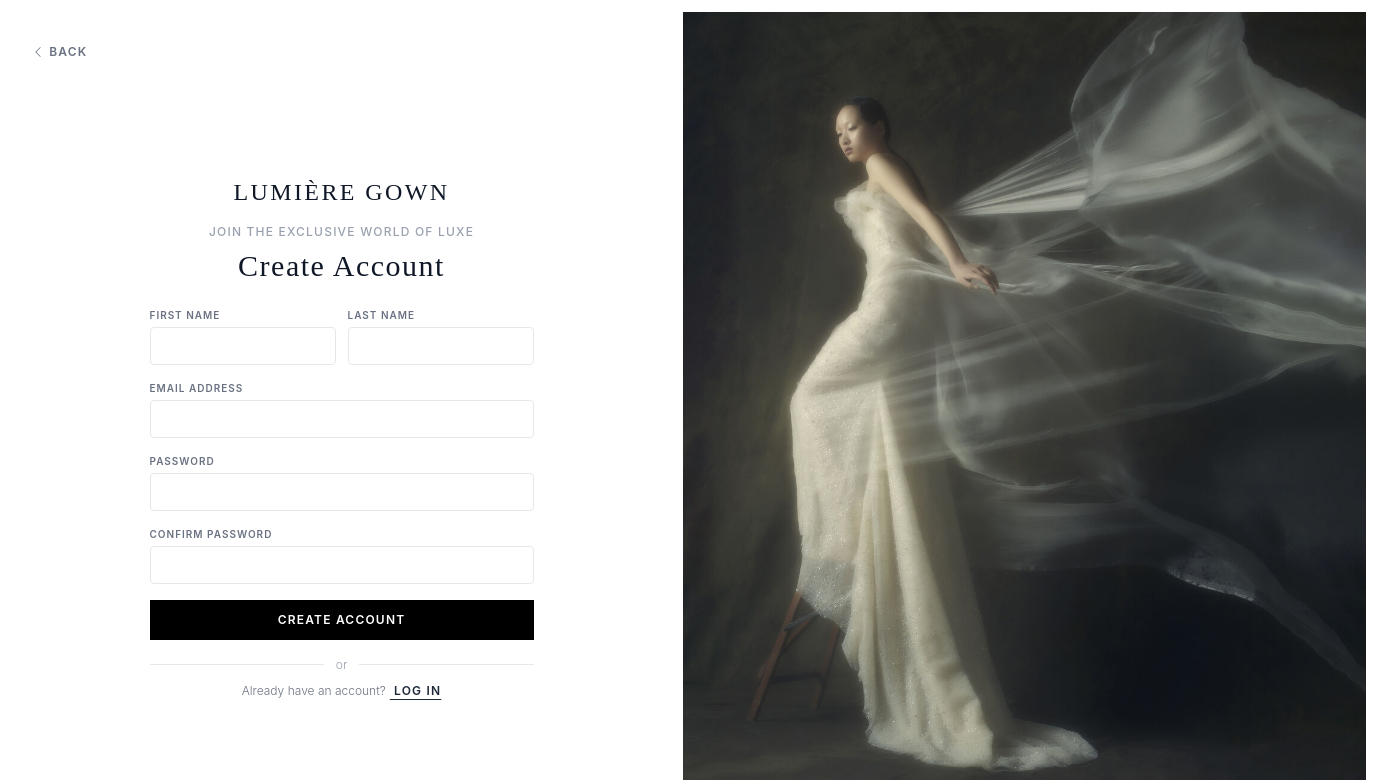
it: RegisterView.vue › displays generic error message when network or server error occurs without detail
This screenshot has width=1378, height=780.
Type "Chanya" into the field with id "firstName" at (242,346), box [150,327,336,365]
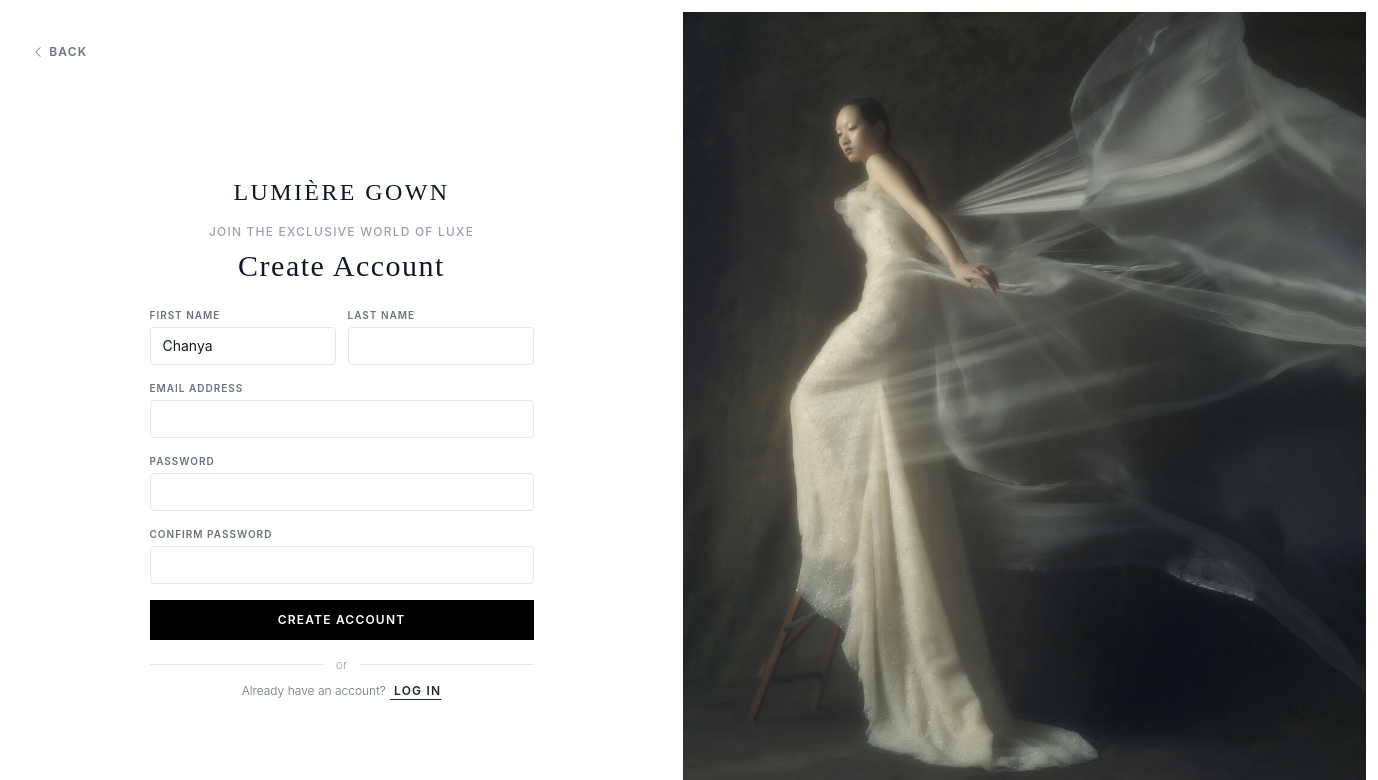
Type "test@metric.com" into the field with id "email" at (342,419), box [150,400,534,438]
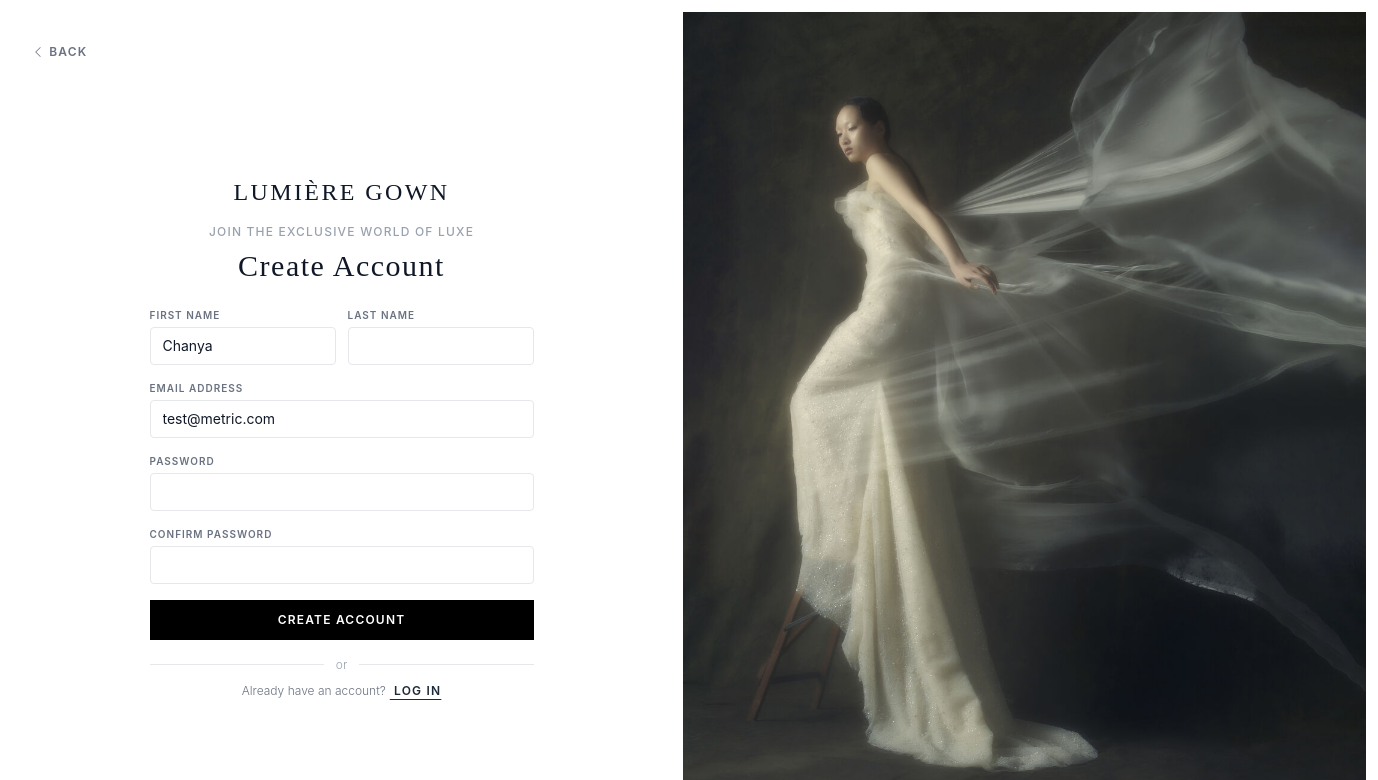
Type "password123" into the password field labelled "Password" at (342,492), box [150,473,534,511]
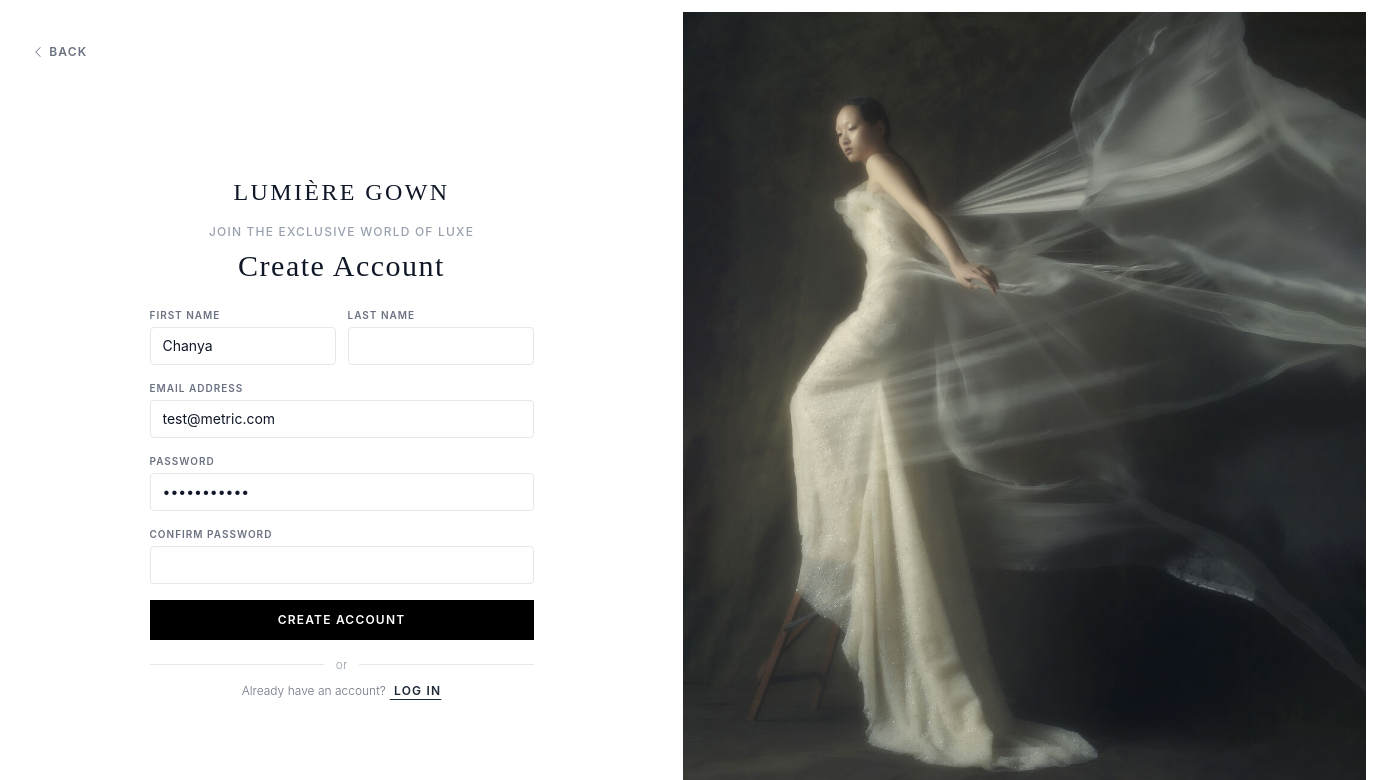
Type "password123" into the password field labelled "Confirm Password" at (342,565), box [150,546,534,584]
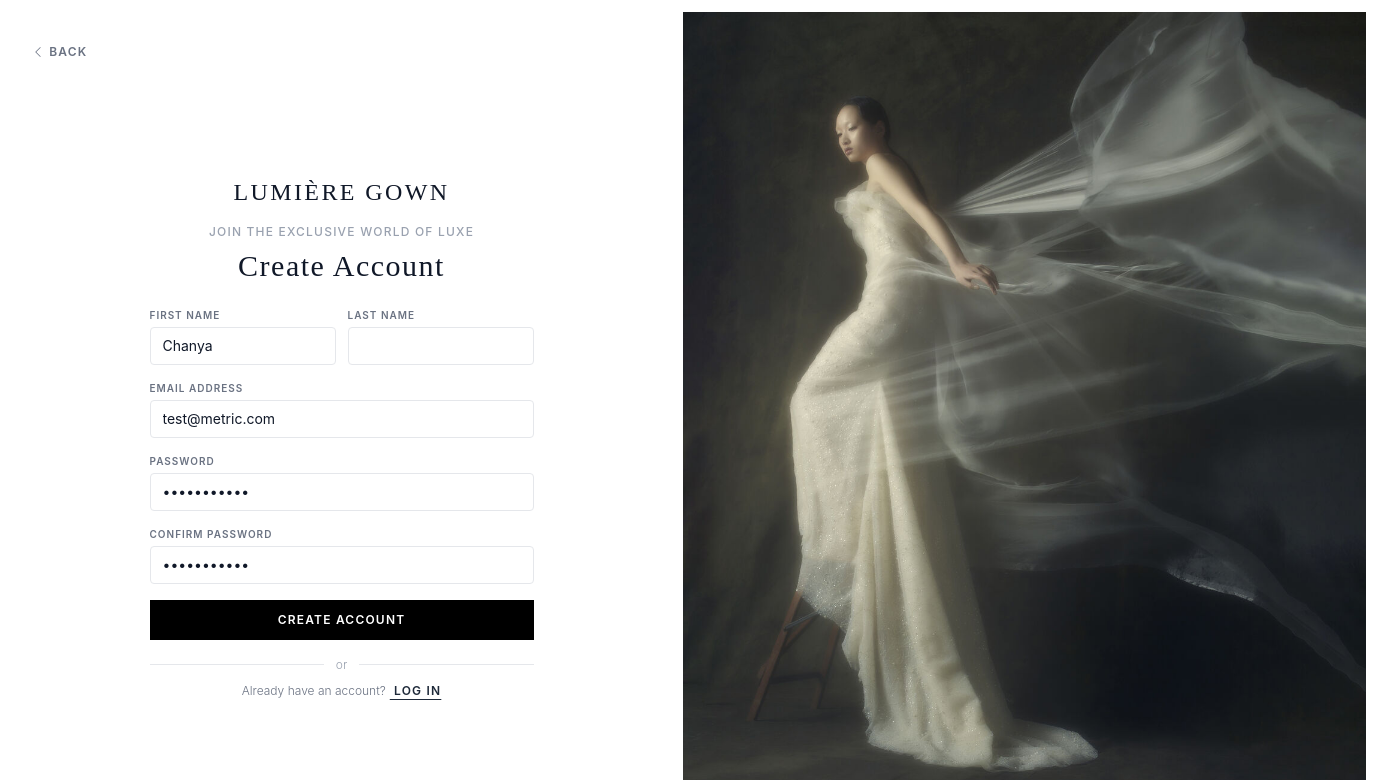
Submit the form, box [150,308,534,640]
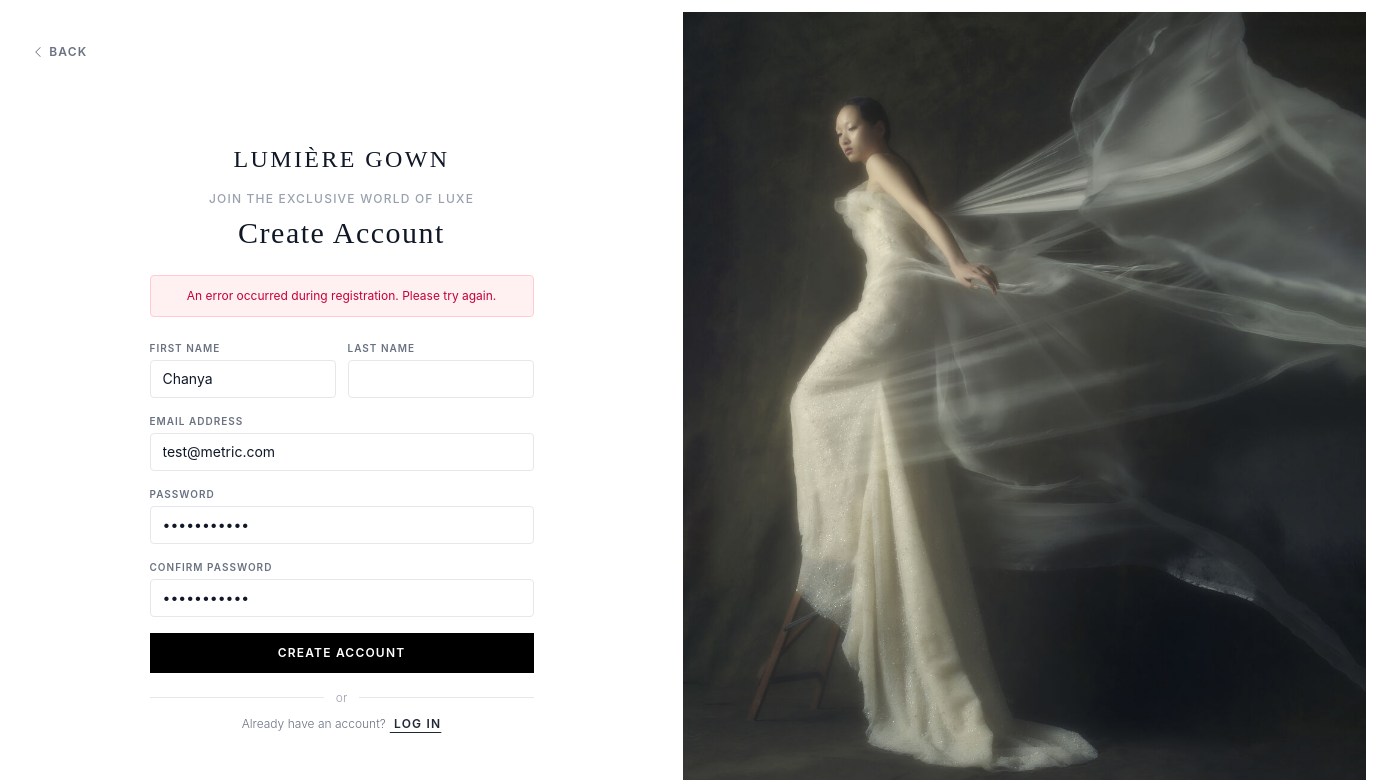
Result: the text "An error occurred during registration. Please try again." is shown at [150,275,534,317]
